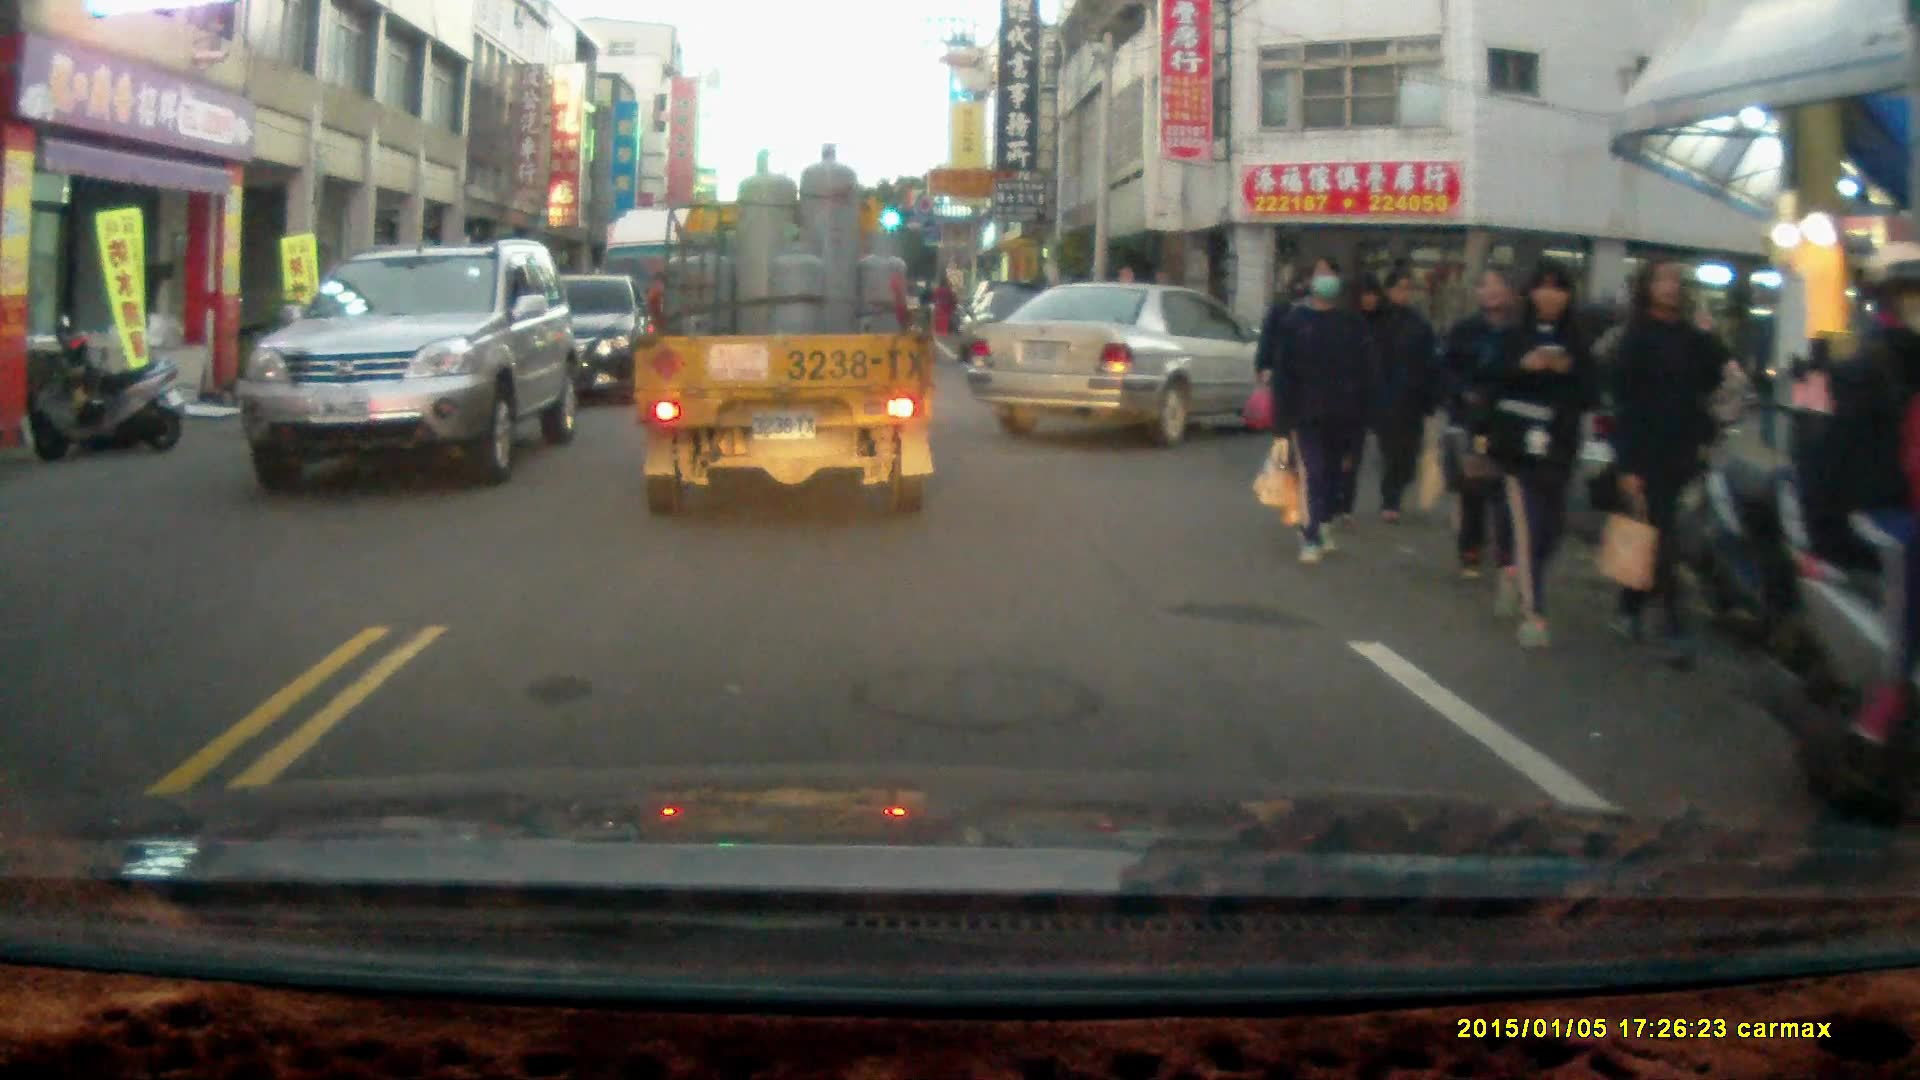pedestrian: (1607, 254, 1728, 666), (1481, 251, 1597, 652), (1270, 255, 1363, 569), (1438, 264, 1525, 588), (1362, 265, 1443, 528)
rider: (1771, 243, 1920, 831)
vehicle: (634, 146, 951, 523), (242, 242, 579, 494), (963, 280, 1309, 446), (465, 271, 661, 412)
